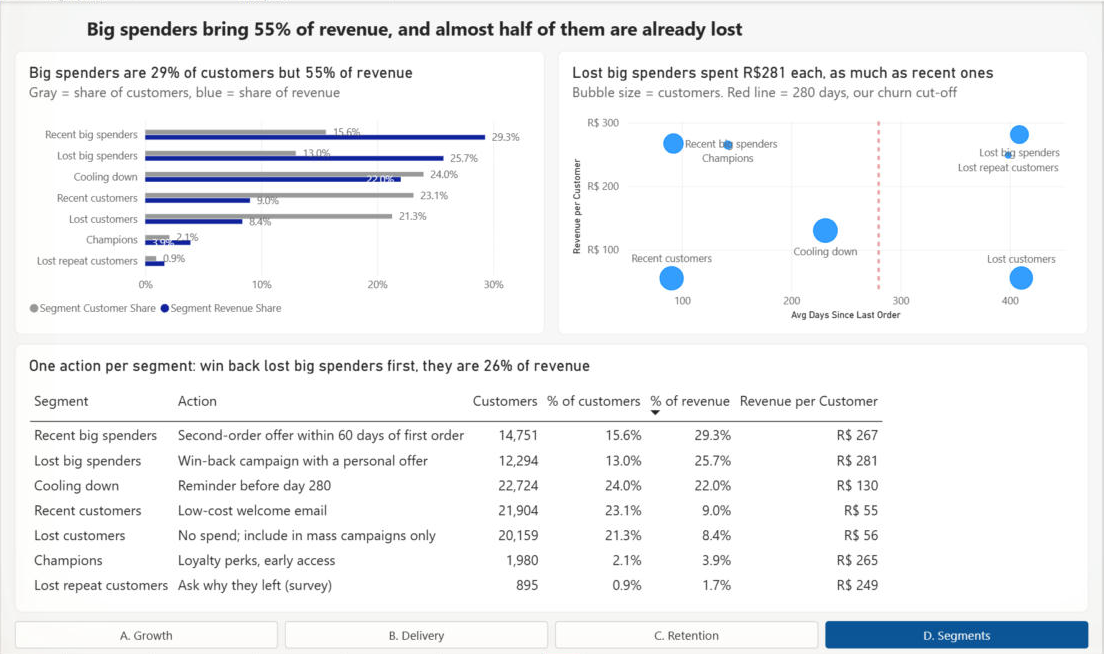

Layout of this report page (visuals, bound fields, positions):
{"tool":"powerbi","page":{"name":"D. Segments","canvas":[1280,760],"ordinal":4},"visuals":[{"type":"clusteredBarChart","title":"Big spenders are 29% of customers but 55% of revenue","fields":{"Category":["vw_rfm_customers.segment"],"Y":["_Measures.Segment Customer Share","_Measures.Segment Revenue Share"]},"box":[16,58,616,330],"z":0},{"type":"scatterChart","title":"Lost big spenders spent R$281 each, as much as recent ones","fields":{"Category":["vw_rfm_customers.segment"],"Size":["_Measures.RFM Customers"],"X":["_Measures.Avg Days Since Last Order"],"Y":["_Measures.Revenue per Customer"]},"box":[648,58,616,330],"z":1000},{"type":"tableEx","title":"One action per segment: win back lost big spenders first, they are 26% of revenue","fields":{"Values":["vw_rfm_customers.segment","vw_rfm_customers.Action","_Measures.RFM Customers","_Measures.Segment Customer Share","_Measures.Segment Revenue Share","_Measures.Revenue per Customer"]},"box":[16,398,1248,312],"z":2000},{"type":"textbox","box":[100,16,820,50],"z":3000},{"type":"pageNavigator","box":[16,720,1248,32],"z":3001}]}

Visuals, with their boxes in screenshot pixels (x1, y1, x2, y2), scaled from the page's 1280x760 canvas onto the 1104x654 screenshot:
"Big spenders are 29% of customers but 55% of revenue" clusteredBarChart: pyautogui.locateOnScreen(14, 50, 545, 334)
"Lost big spenders spent R$281 each, as much as recent ones" scatterChart: pyautogui.locateOnScreen(559, 50, 1090, 334)
"One action per segment: win back lost big spenders first, they are 26% of revenue" tableEx: pyautogui.locateOnScreen(14, 342, 1090, 611)
textbox: pyautogui.locateOnScreen(86, 14, 794, 57)
pageNavigator: pyautogui.locateOnScreen(14, 620, 1090, 647)
